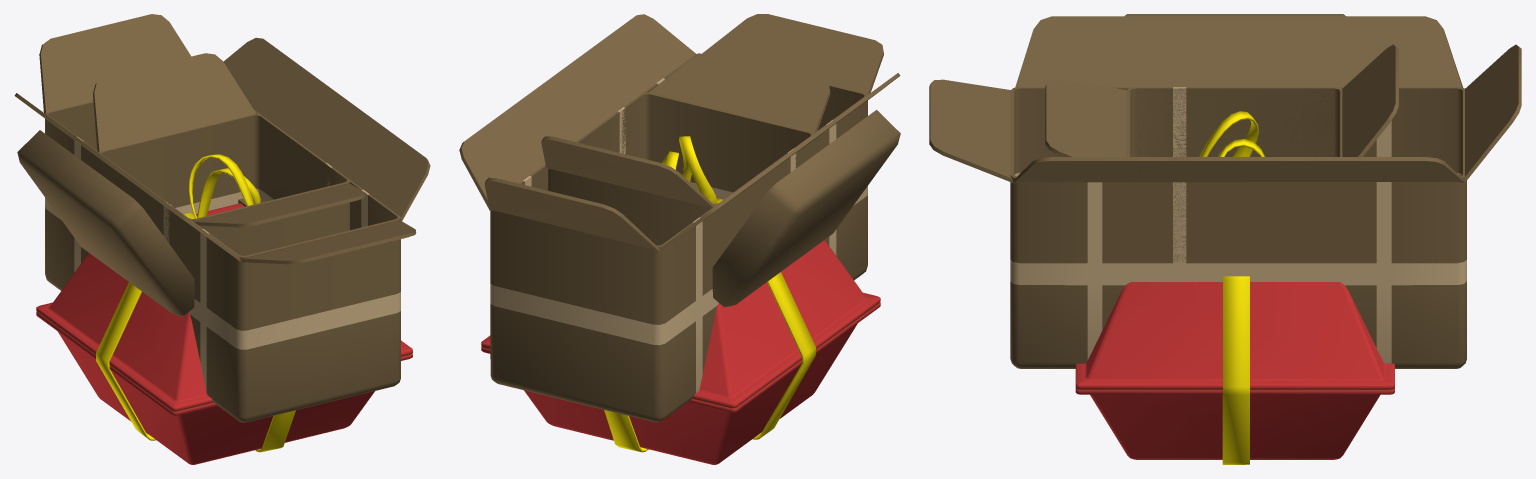
Rendered from Boxes.fbx.
The picture shows the model from 3 angles, left to right: view 1: azimuth 30°, elevation 25°; view 2: azimuth 150°, elevation 25°; view 3: azimuth 270°, elevation 25°; orthographic projection. The views are drawn at different scales.
Parts seen in each view (by area): view 1: Box_02, Box_01, Box_Present, Box_03; view 2: Box_02, Box_01, Box_Present, Box_03; view 3: Box_02, Box_Present, Box_01, Box_03.
Part boxes in pixels (left/top/right/bottom): Box_02: left=14, top=14, right=430, bottom=422; Box_01: left=70, top=53, right=377, bottom=255; Box_Present: left=36, top=154, right=412, bottom=464; Box_03: left=17, top=130, right=246, bottom=316; Box_02: left=459, top=14, right=900, bottom=422; Box_01: left=518, top=53, right=844, bottom=245; Box_Present: left=481, top=136, right=880, bottom=464; Box_03: left=712, top=110, right=900, bottom=307; Box_02: left=929, top=16, right=1521, bottom=368; Box_Present: left=1075, top=111, right=1394, bottom=464; Box_01: left=1045, top=16, right=1398, bottom=281; Box_03: left=1124, top=14, right=1345, bottom=16.
Size of the model in its own units: 3.57 by 3.66 by 5.65.
